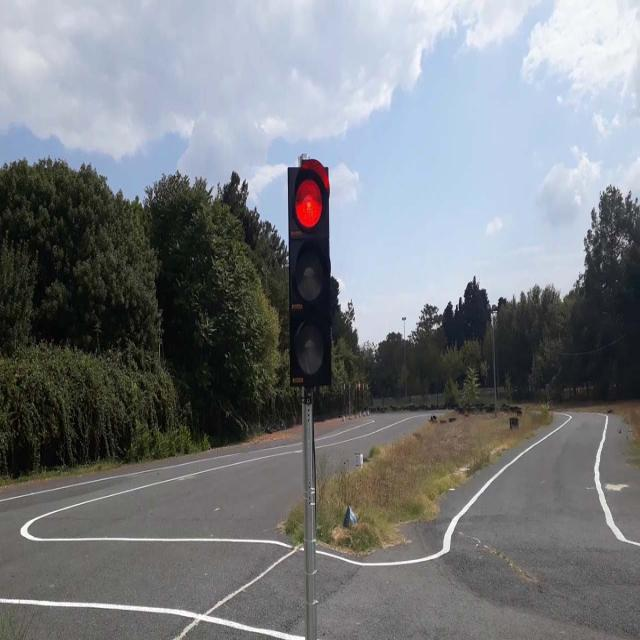kirmizi: (288, 159, 334, 386)
